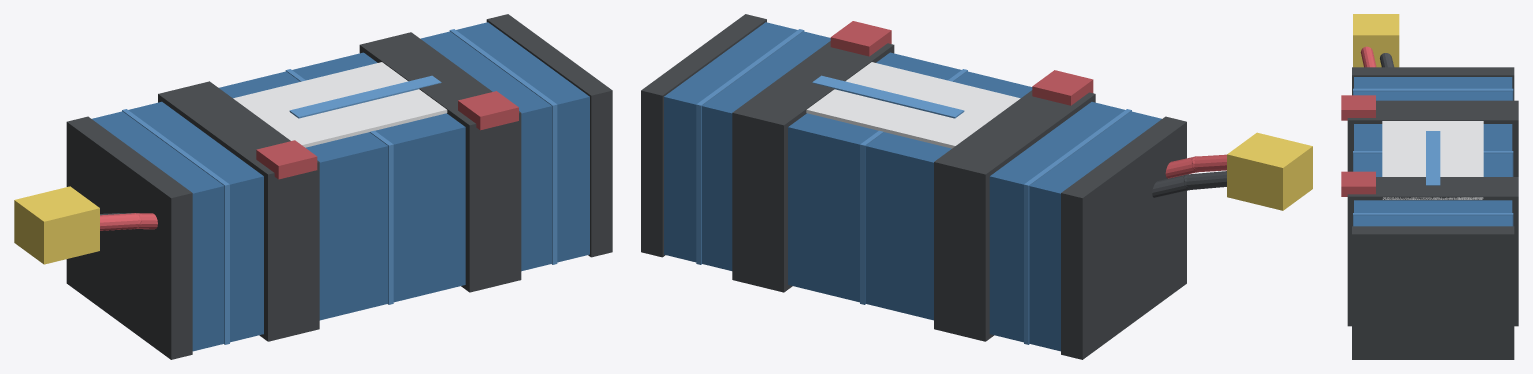
File: battery_6s_16000.glb
3 views of the same model, side by side, from view 1: azimuth 30°, elevation 25°; view 2: azimuth 150°, elevation 25°; view 3: azimuth 270°, elevation 25° (orthographic). The views are drawn at different scales.
Visible parts, largest first — view 1: body, rear_cap, strap_0, strap_1, label, front_cap, xt90_body, strap_tab_0, strap_tab_1, label_stripe, cell_rib_0, cell_rib_4 (+2 smaller); view 2: body, rear_cap, strap_0, strap_1, label, front_cap, xt90_body, label_stripe, cell_rib_4, cell_rib_0, strap_tab_0, strap_tab_1 (+4 smaller); view 3: front_cap, body, label, strap_1, strap_0, xt90_body, rear_cap, strap_tab_1, strap_tab_0, label_stripe, cell_rib_0, cell_rib_4 (+3 smaller).
Boxes of the visible parts, x1=… form: body: x1=92, y1=22, x2=589, y2=351; rear_cap: x1=66, y1=116, x2=192, y2=359; strap_0: x1=158, y1=81, x2=319, y2=341; strap_1: x1=359, y1=32, x2=521, y2=292; label: x1=233, y1=62, x2=447, y2=147; front_cap: x1=486, y1=14, x2=612, y2=257; xt90_body: x1=14, y1=186, x2=99, y2=264; strap_tab_0: x1=256, y1=140, x2=317, y2=179; strap_tab_1: x1=458, y1=91, x2=518, y2=130; label_stripe: x1=289, y1=75, x2=441, y2=118; cell_rib_0: x1=122, y1=109, x2=229, y2=344; cell_rib_4: x1=449, y1=29, x2=557, y2=264; body: x1=664, y1=22, x2=1161, y2=351; rear_cap: x1=1061, y1=116, x2=1186, y2=359; strap_0: x1=934, y1=90, x2=1095, y2=341; strap_1: x1=732, y1=41, x2=894, y2=292; label: x1=806, y1=62, x2=1020, y2=148; front_cap: x1=641, y1=14, x2=766, y2=257; xt90_body: x1=1227, y1=132, x2=1312, y2=210; label_stripe: x1=812, y1=75, x2=964, y2=118; cell_rib_4: x1=696, y1=29, x2=804, y2=264; cell_rib_0: x1=1024, y1=109, x2=1131, y2=344; strap_tab_0: x1=1032, y1=70, x2=1093, y2=105; strap_tab_1: x1=830, y1=21, x2=891, y2=56; front_cap: x1=1352, y1=226, x2=1514, y2=359; body: x1=1354, y1=77, x2=1512, y2=226; label: x1=1382, y1=121, x2=1483, y2=199; strap_1: x1=1347, y1=177, x2=1518, y2=326; strap_0: x1=1347, y1=100, x2=1518, y2=176; xt90_body: x1=1353, y1=14, x2=1399, y2=67; rear_cap: x1=1352, y1=67, x2=1514, y2=100; strap_tab_1: x1=1341, y1=171, x2=1375, y2=196; strap_tab_0: x1=1341, y1=95, x2=1375, y2=120; label_stripe: x1=1426, y1=131, x2=1440, y2=185; cell_rib_0: x1=1353, y1=88, x2=1513, y2=100; cell_rib_4: x1=1353, y1=213, x2=1513, y2=226.
Bounding box in the file's own units: 0.2637 × 0.0786 × 0.0918.
